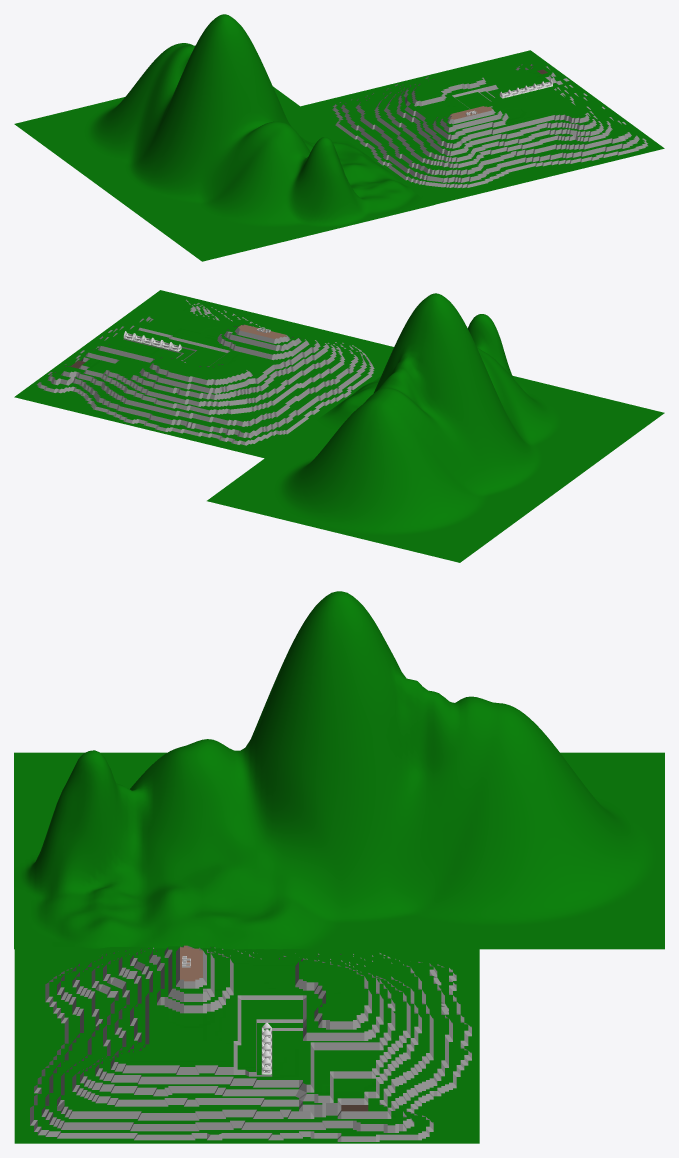
Rendered from MachuPicchu.fbx.
3 renders of one model, top to bottom at view 1: azimuth 30°, elevation 25°; view 2: azimuth 150°, elevation 25°; view 3: azimuth 270°, elevation 25°, orthographic. The views are drawn at different scales.
Parts seen in each view (by area): view 1: Montaña, Ciudadela; view 2: Montaña, Ciudadela; view 3: Montaña, Ciudadela.
Boxes of the visible parts, x1,y1,x2,y2 form: Montaña: (14,14,434,261); Ciudadela: (301,50,664,204); Montaña: (207,293,664,562); Ciudadela: (14,290,393,458); Montaña: (14,591,664,949); Ciudadela: (14,945,479,1143).
Bounding box in the file's own units: 72061 × 22301 × 50727.
